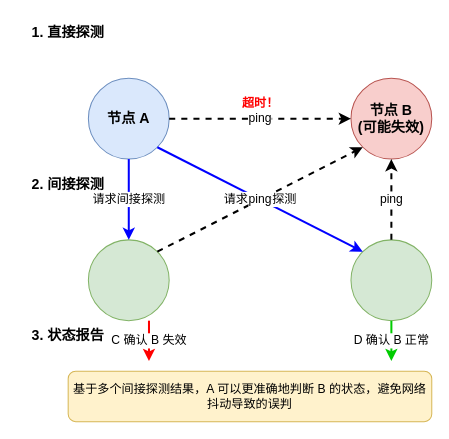
The diagram is 449 pixels wide and 439 high, and some of its shapes have lost their labels. Here are the shapes that lost their labels. From the top down, the centre of each, then its label:
the point at 128,280: 节点 C
the point at 391,280: 节点 D
